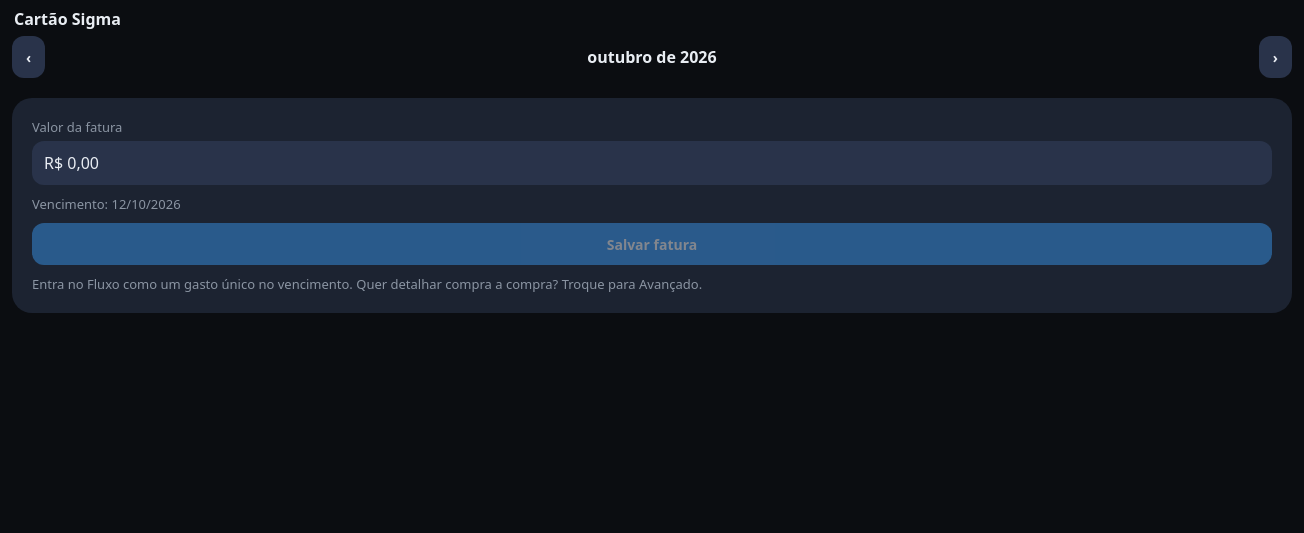
Test: com o previsto: Paguei tudo vira efetivo; depois mostra Pago e some o botão
Type "187000" into the field labelled "Valor da fatura" at (652, 163), box [32,141,1272,185]
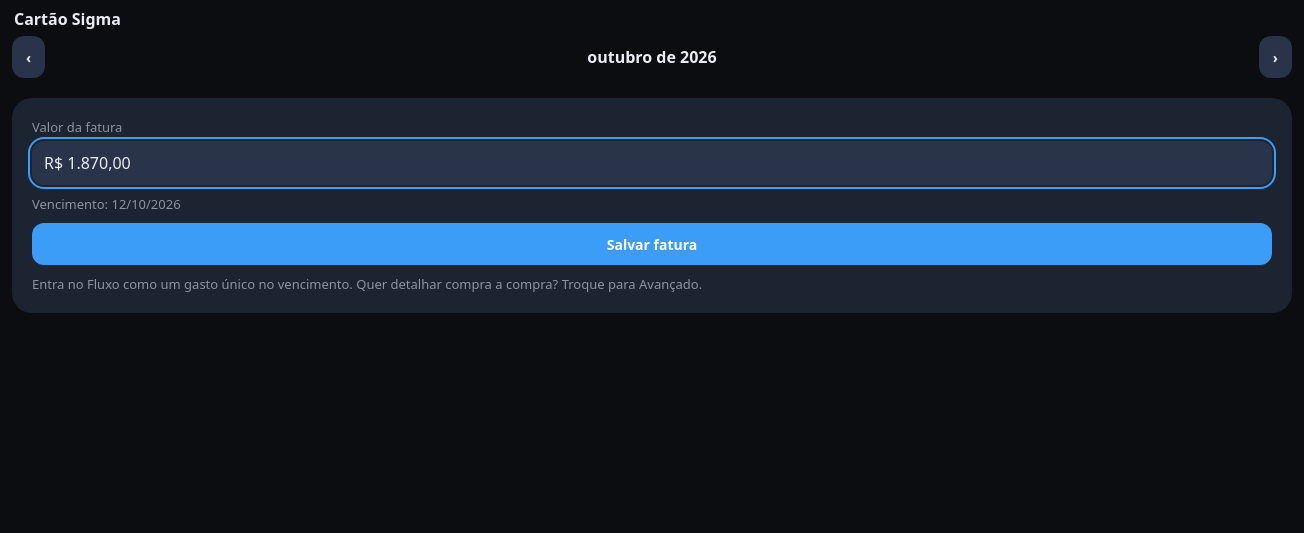
Click the button "Salvar fatura" at (652, 244), box [32,223,1272,265]
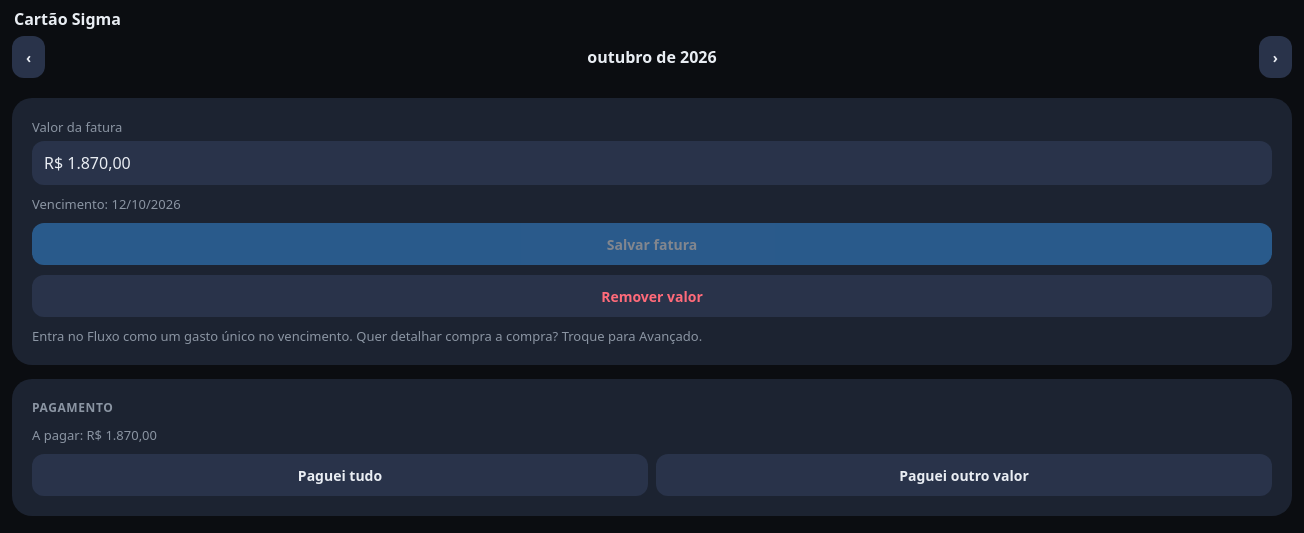
Check: the button "Paguei outro valor" is shown, box [656,454,1272,496]
Click the button "Paguei tudo" at (340, 475), box [32,454,648,496]
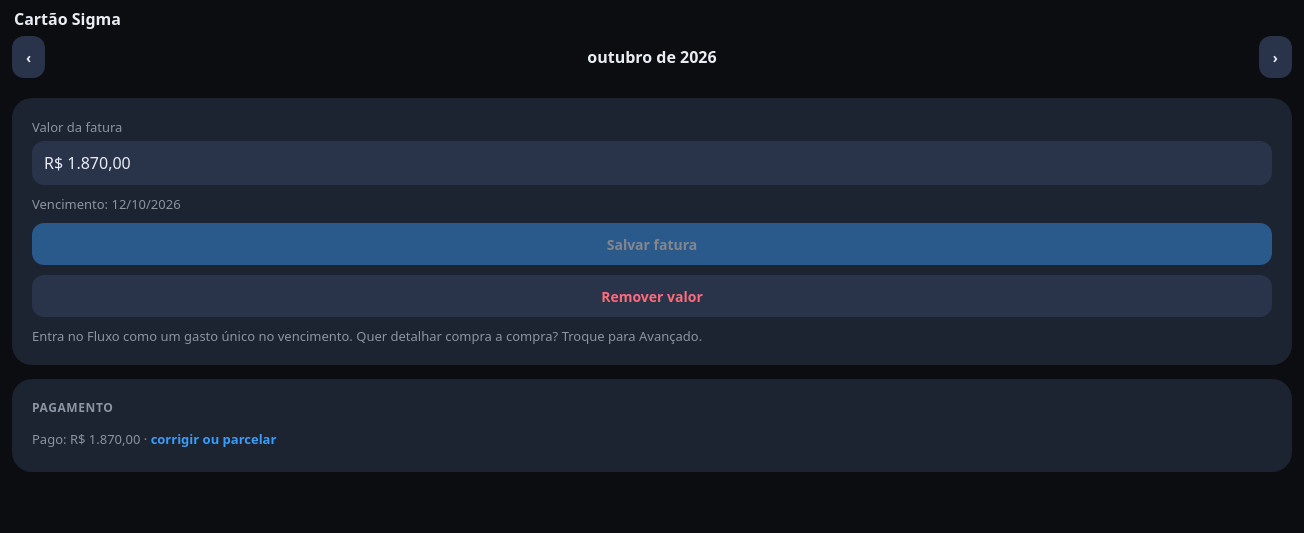
Check: the text "Pago: R$ 1.870,00 · corrigir ou parcelar" is shown, box [32,426,276,452]
Check: the button "Paguei tudo" is gone
